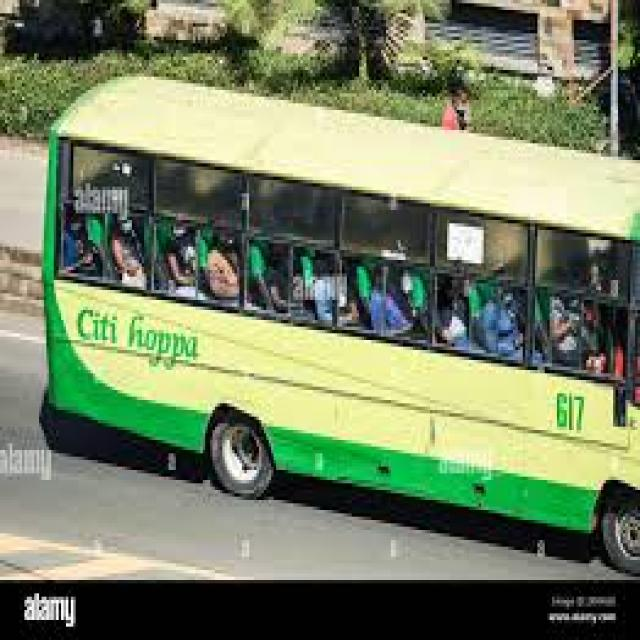bus: (19, 43, 640, 579)
